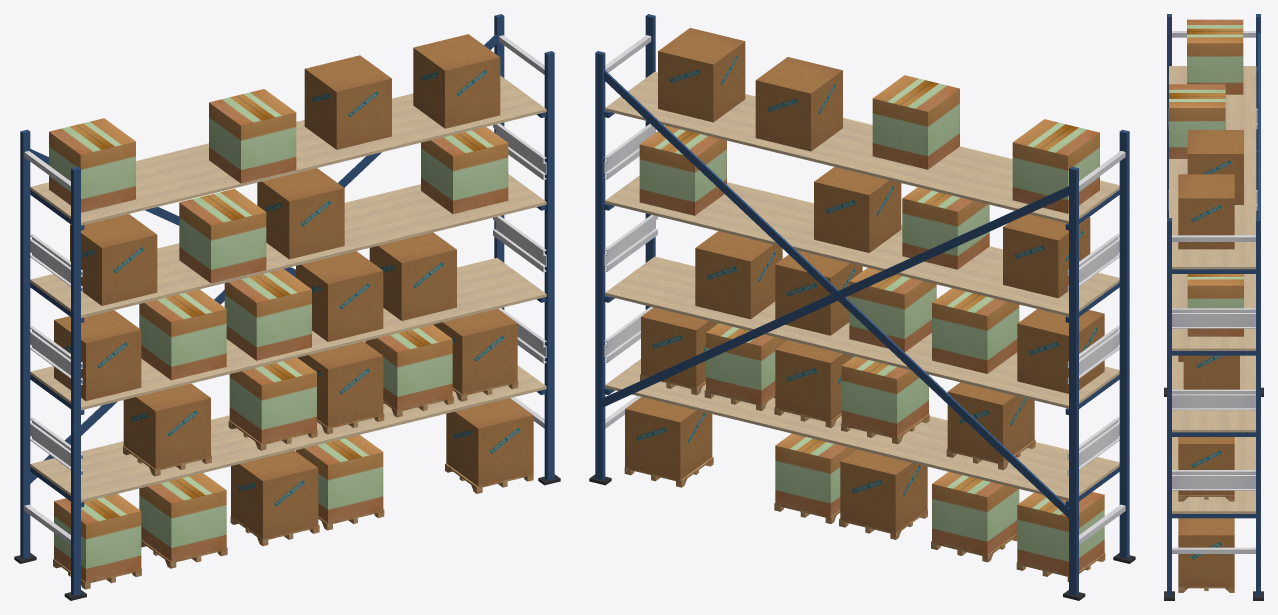
Rendered from BigShelves03Group2.glb.
3 views of the same model, side by side, from view 1: azimuth 30°, elevation 25°; view 2: azimuth 150°, elevation 25°; view 3: azimuth 270°, elevation 25° (orthographic). The views are drawn at different scales.
Visible parts, largest first — view 1: Cardboard_box05, Cardboard_box01, BigShelves03, BigShelvesWoodBox; view 2: BigShelves03, Cardboard_box05, Cardboard_box01, BigShelvesWoodBox; view 3: BigShelves03, Cardboard_box05, Cardboard_box01, BigShelvesWoodBox.
Part boxes in pixels (left/top/right/bottom): Cardboard_box05: left=54, top=34, right=533, bottom=538; Cardboard_box01: left=49, top=89, right=508, bottom=582; BigShelves03: left=14, top=14, right=560, bottom=600; BigShelvesWoodBox: left=53, top=380, right=533, bottom=589; BigShelves03: left=589, top=14, right=1135, bottom=600; Cardboard_box05: left=625, top=28, right=1104, bottom=532; Cardboard_box01: left=639, top=75, right=1104, bottom=574; BigShelvesWoodBox: left=624, top=374, right=1105, bottom=581; BigShelves03: left=1164, top=14, right=1263, bottom=600; Cardboard_box05: left=1178, top=130, right=1243, bottom=586; Cardboard_box01: left=1169, top=19, right=1243, bottom=336; BigShelvesWoodBox: left=1178, top=495, right=1234, bottom=592.
Bounding box in the file's own units: 9.03 × 7.59 × 1.81.
7 materials, 7 textured.
